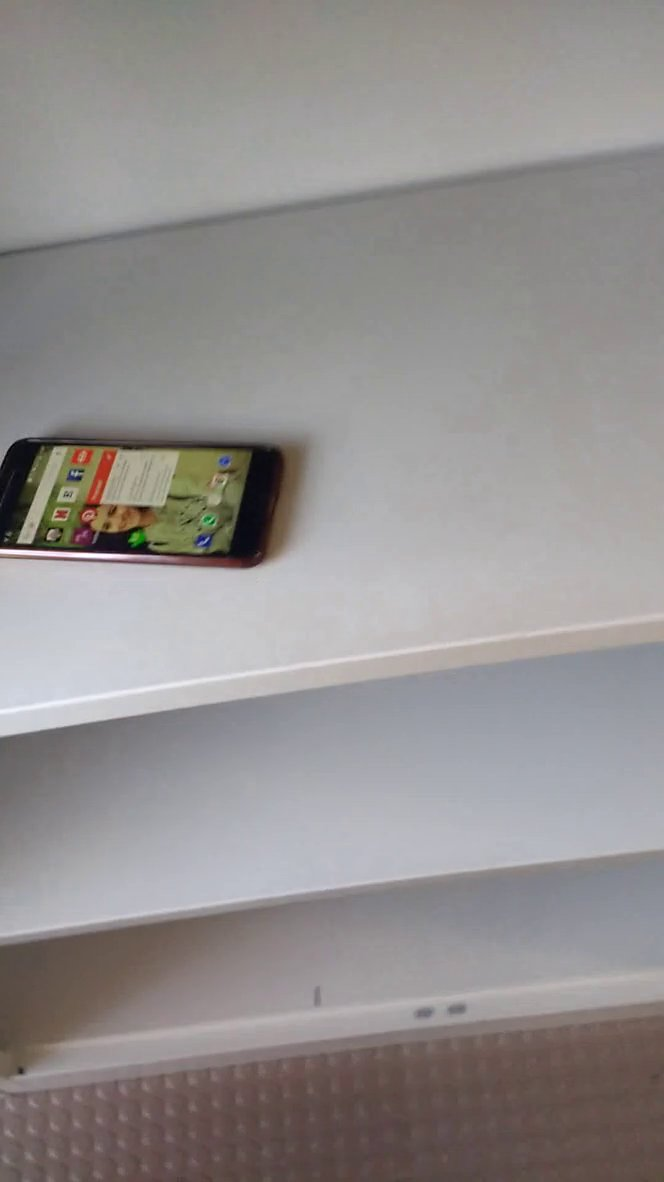phone: (1, 403, 305, 594)
